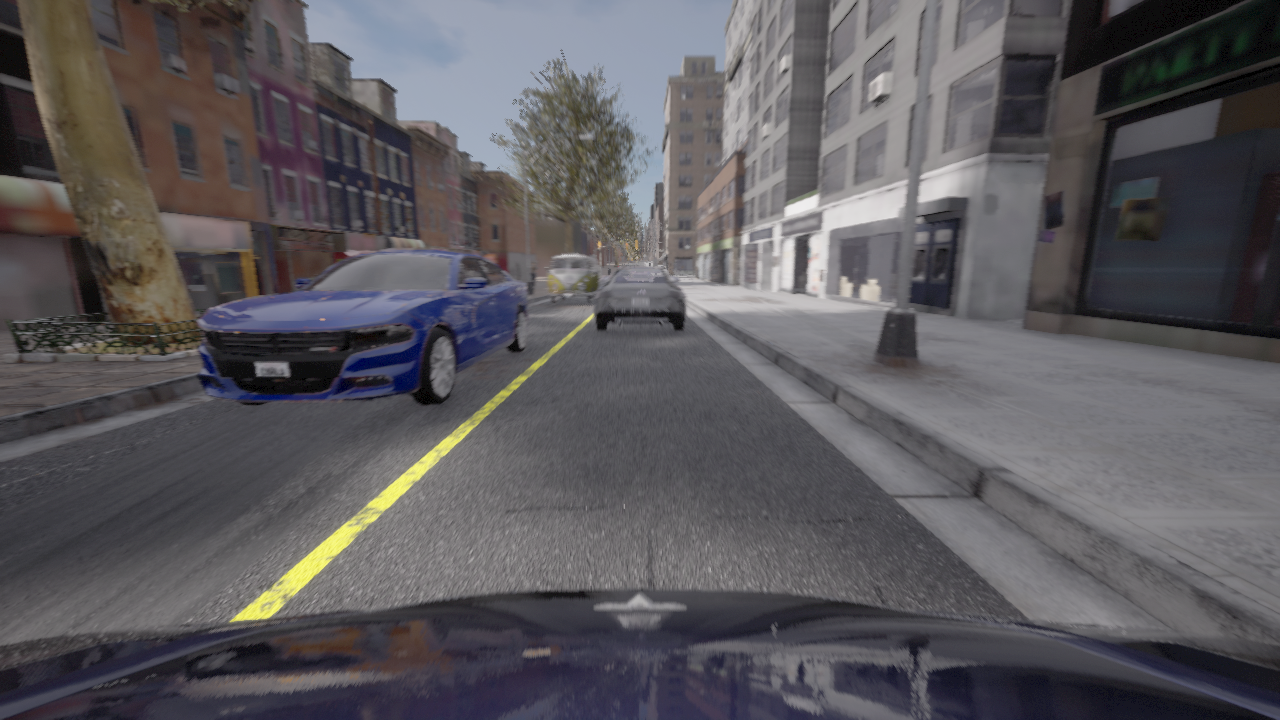cyclist: (0, 588, 1279, 719), (198, 249, 528, 405), (594, 267, 685, 330), (545, 254, 599, 303)
pedestrian: (531, 261, 535, 288)
